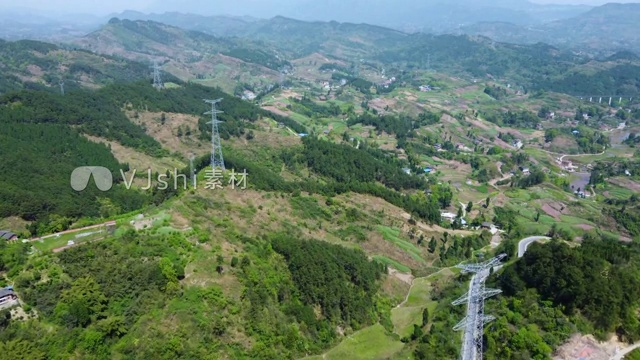tower_body: (441, 246, 513, 360), (198, 94, 233, 174)
tower_foot: (458, 338, 486, 359), (207, 156, 227, 171)
tower_head: (448, 249, 508, 276), (201, 98, 227, 117)
